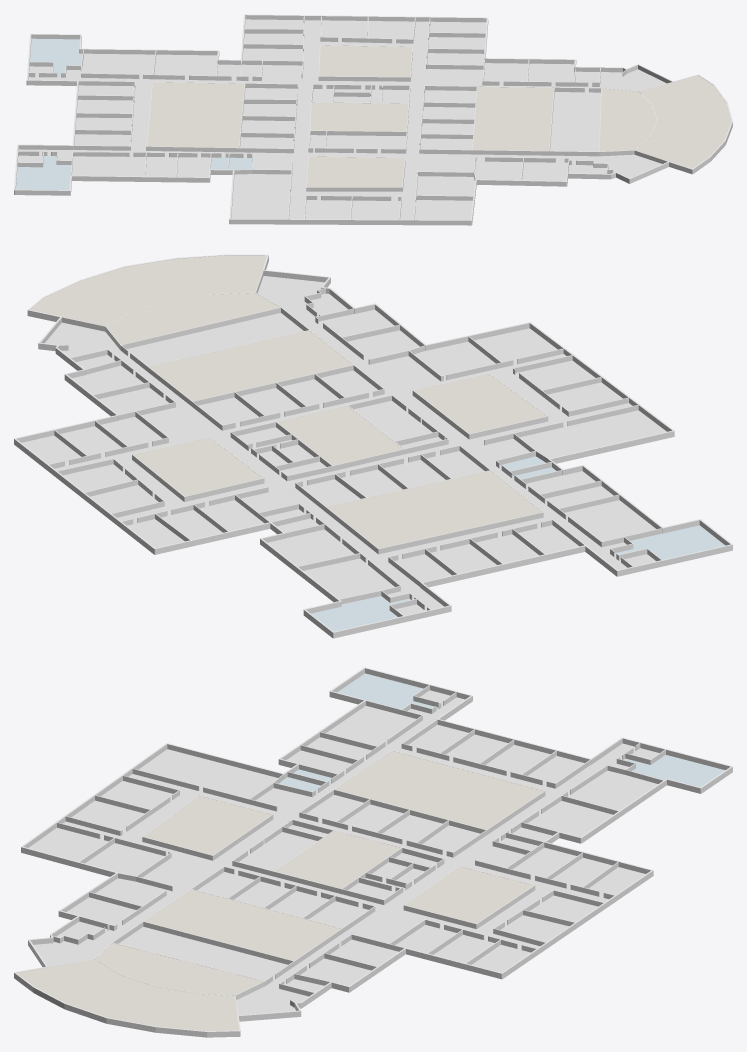
3 renders of one model, top to bottom at view 1: azimuth 30°, elevation 25°; view 2: azimuth 150°, elevation 25°; view 3: azimuth 270°, elevation 25°, orthographic. The views are drawn at different scales.
Parts seen in each view (by area): view 1: m_c88ca33415bd2df9; view 2: m_c88ca33415bd2df9; view 3: m_c88ca33415bd2df9.
Part boxes in pixels (x1=…): m_c88ca33415bd2df9: x1=14, y1=14, x2=732, y2=225; m_c88ca33415bd2df9: x1=14, y1=254, x2=732, y2=638; m_c88ca33415bd2df9: x1=14, y1=667, x2=732, y2=1037.
Size of the model in its own units: 65.68 by 0.4708 by 54.73.
